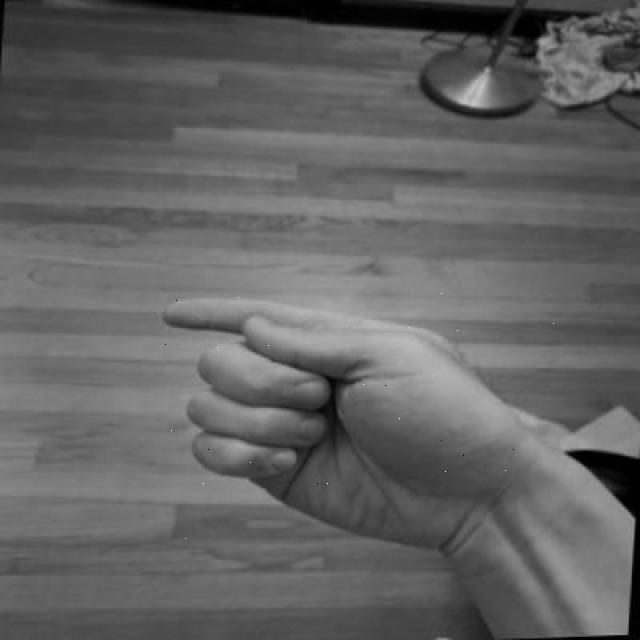G: (143, 283, 556, 571)
